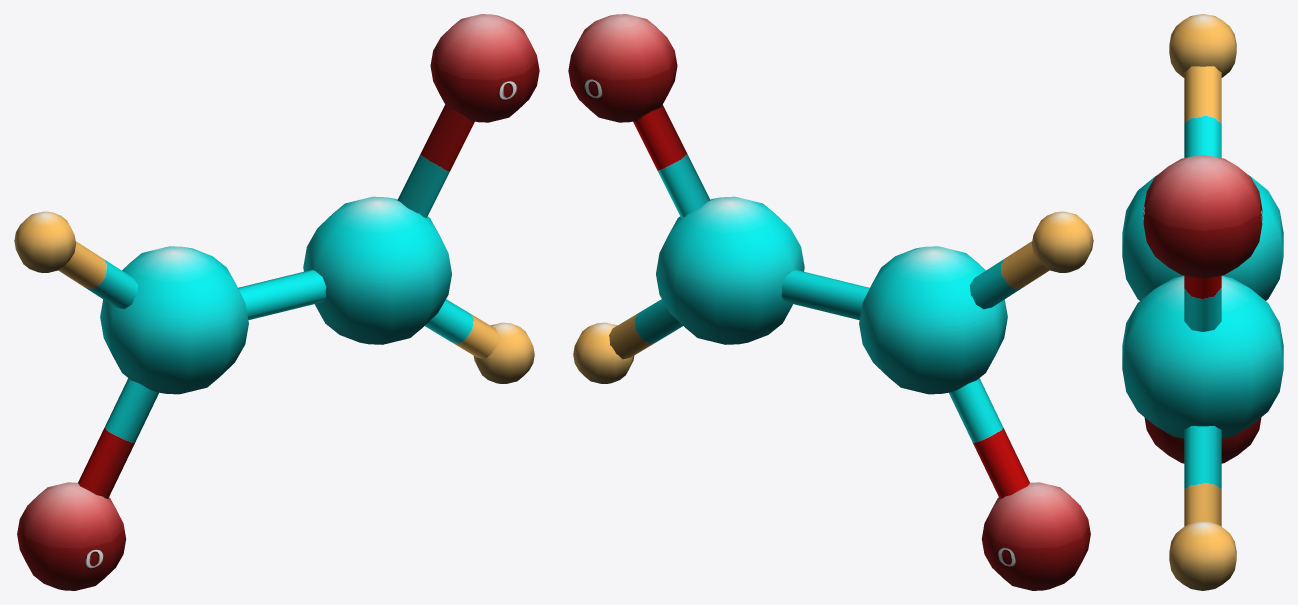
File: Glyoxal.dae
3 renders of one model, left to right at view 1: azimuth 30°, elevation 25°; view 2: azimuth 150°, elevation 25°; view 3: azimuth 270°, elevation 25°, orthographic. The views are drawn at different scales.
Parts seen in each view (by area): view 1: polySurface13; view 2: polySurface13; view 3: polySurface13.
Part boxes in pixels (bbox=[...]): polySurface13: bbox=[14, 14, 539, 590]; polySurface13: bbox=[568, 14, 1093, 590]; polySurface13: bbox=[1122, 14, 1283, 590].
Size of the model in its own units: 6.25 by 5.42 by 1.5.
1 material, 1 textured.
